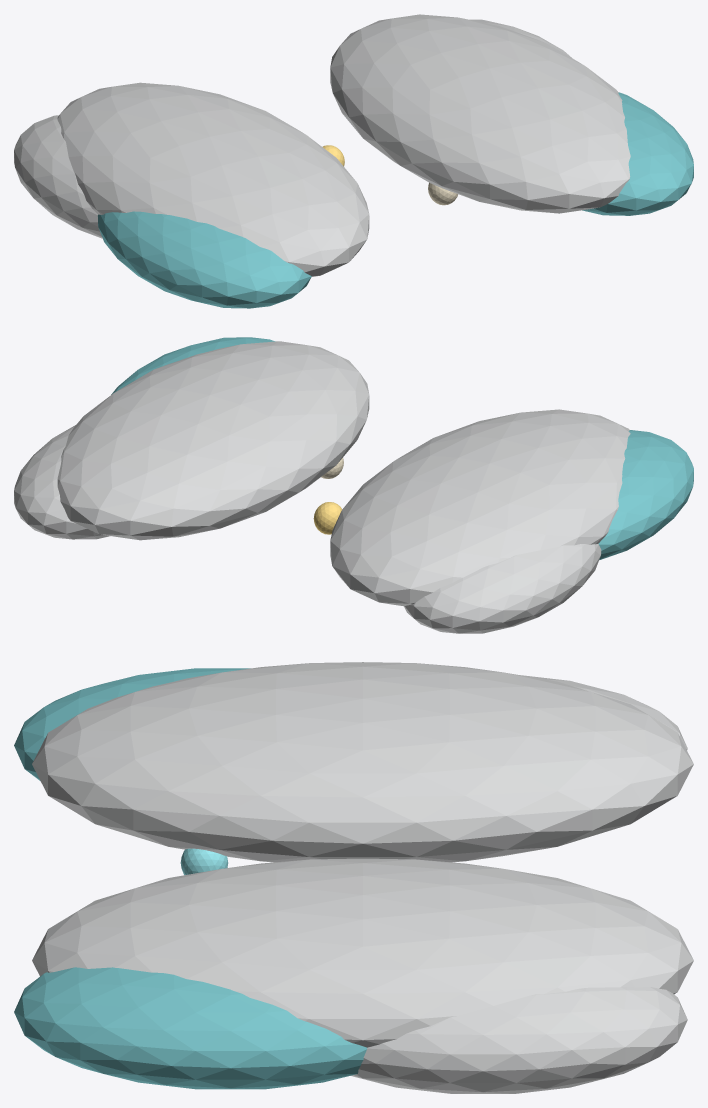
File: alas.glb
3 renders of one model, top to bottom at view 1: azimuth 30°, elevation 25°; view 2: azimuth 150°, elevation 25°; view 3: azimuth 270°, elevation 25°, orthographic. The views are drawn at different scales.
Visible parts, largest first — view 1: alas_03, alas_00, alas_01, alas_04, alas_02; view 2: alas_03, alas_00, alas_02, alas_01, alas_05, alas_04, Detalle_04; view 3: alas_00, alas_03, alas_04, alas_05, alas_01, alas_02, Detalle_03.
Part boxes in pixels (<box>): alas_03: <box>330,14,630,213</box>; alas_00: <box>57,82,369,276</box>; alas_01: <box>97,211,311,308</box>; alas_04: <box>582,92,693,215</box>; alas_02: <box>14,115,102,238</box>; alas_03: <box>57,341,369,540</box>; alas_00: <box>330,409,630,606</box>; alas_02: <box>404,544,601,633</box>; alas_01: <box>598,430,693,559</box>; alas_05: <box>14,425,110,539</box>; alas_04: <box>111,337,275,394</box>; Detalle_04: <box>313,502,342,534</box>; alas_00: <box>32,662,693,862</box>; alas_03: <box>32,858,693,1047</box>; alas_04: <box>14,967,366,1089</box>; alas_05: <box>350,986,687,1093</box>; alas_01: <box>14,668,250,780</box>; alas_02: <box>520,675,687,749</box>; Detalle_03: <box>180,848,228,875</box>.
Bounding box in the file's own units: 1.49 × 0.2602 × 1.13.
